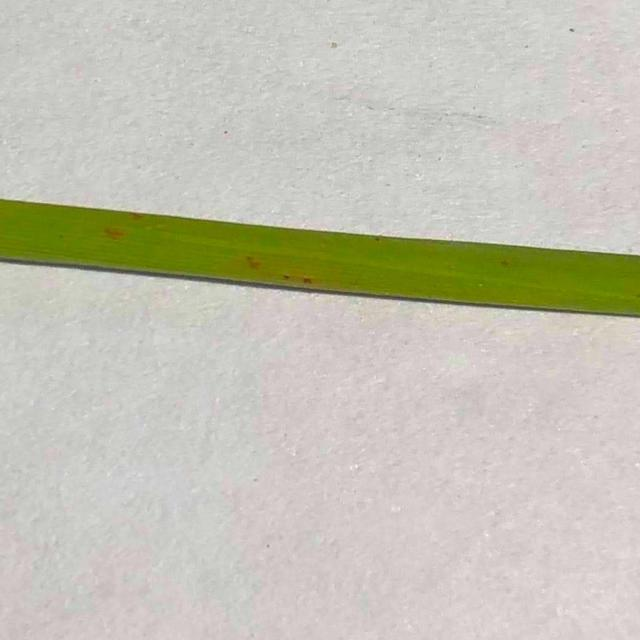Brown spot: (0, 187, 640, 316)
